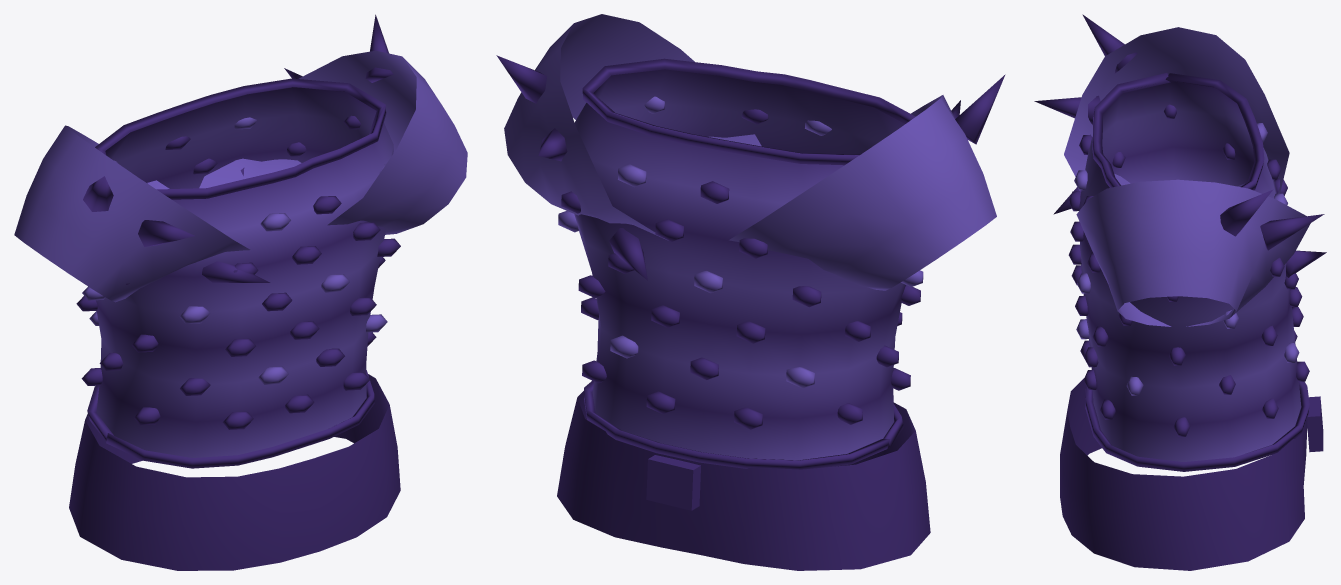
Rendered from demonite_chainmail.glb.
The picture shows the model from 3 angles, left to right: view 1: azimuth 30°, elevation 25°; view 2: azimuth 150°, elevation 25°; view 3: azimuth 270°, elevation 25°; orthographic projection. The views are drawn at different scales.
Parts seen in each view (by area): view 1: demonite_chainmail_chest; view 2: demonite_chainmail_chest; view 3: demonite_chainmail_chest.
Part boxes in pixels (box(x1,y1,x2,y2)): demonite_chainmail_chest: box(14, 14, 467, 570); demonite_chainmail_chest: box(496, 14, 1005, 570); demonite_chainmail_chest: box(1034, 14, 1326, 570).
Size of the model in its own units: 0.6233 by 0.5752 by 0.3767.
